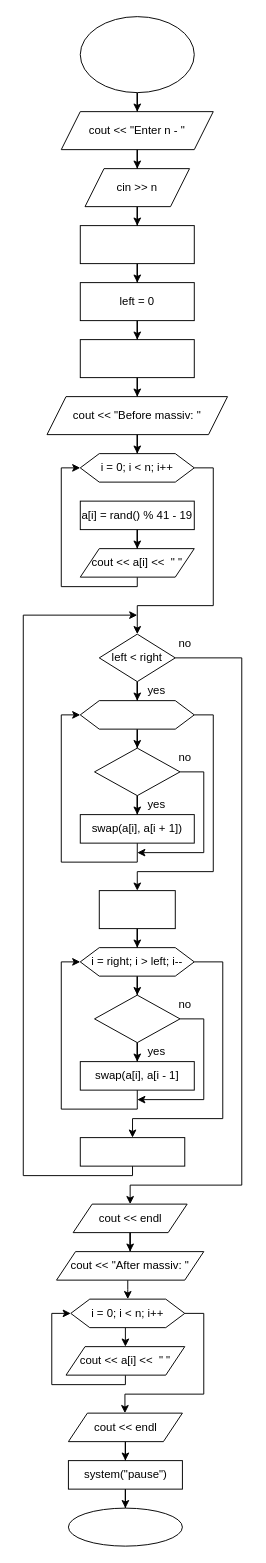
This 266x1563 diagram has some shape labels left out. The box of each missing label's shape, as (x1, y1, x2, y2) in pixels:
a[i] < a[i - 1]: (94, 994, 180, 1043)
a[i] > a[i + 1]: (94, 747, 180, 796)
Finish: (67, 1507, 182, 1546)
i = left; i < right; i++: (79, 700, 194, 729)
left++: (79, 1137, 185, 1166)
right = n - 1: (79, 339, 194, 378)
right--: (98, 890, 175, 929)
srand(time(NULL)): (79, 225, 194, 264)
Start: (79, 16, 194, 93)
